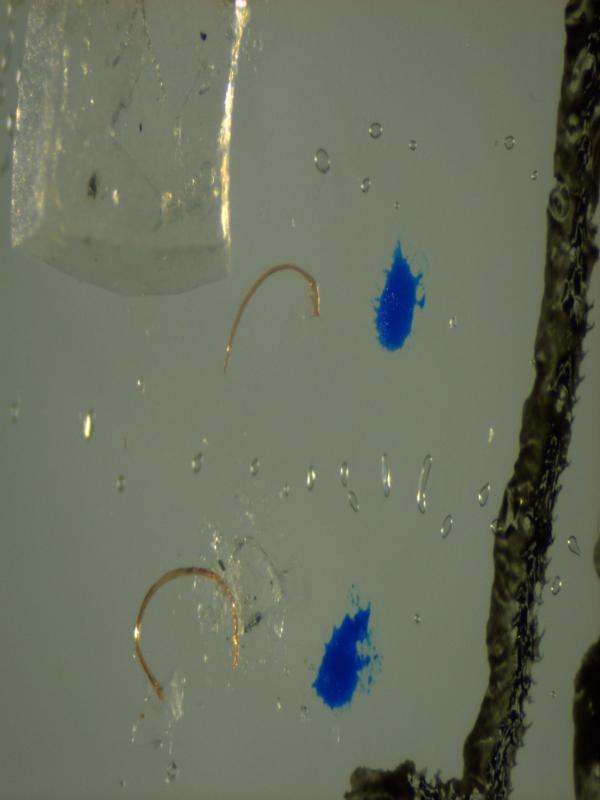microplastic: (2, 1, 598, 797), (371, 236, 426, 352)
